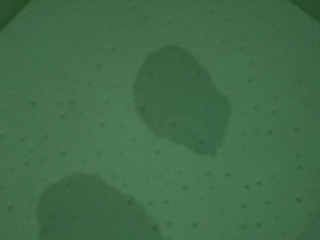Water_detected: (54, 182, 148, 240), (140, 55, 210, 130)
